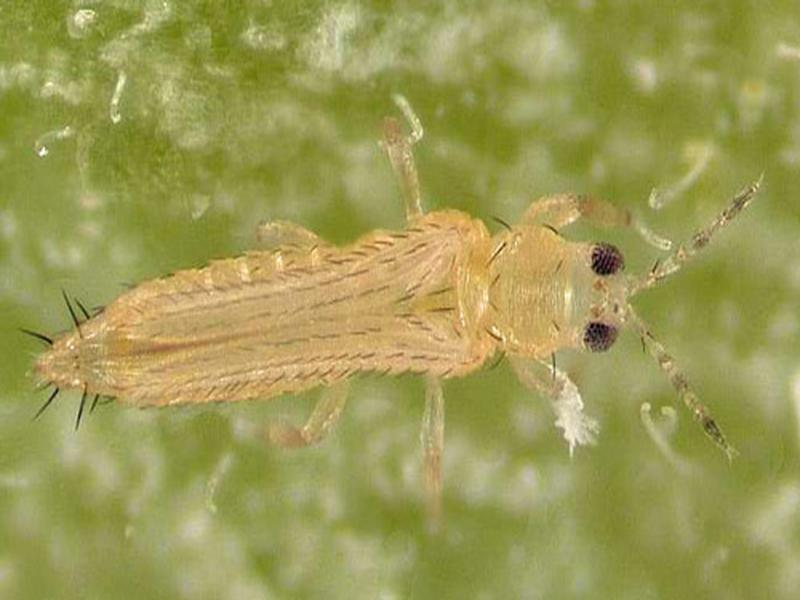Thrips: (25, 195, 657, 456)
